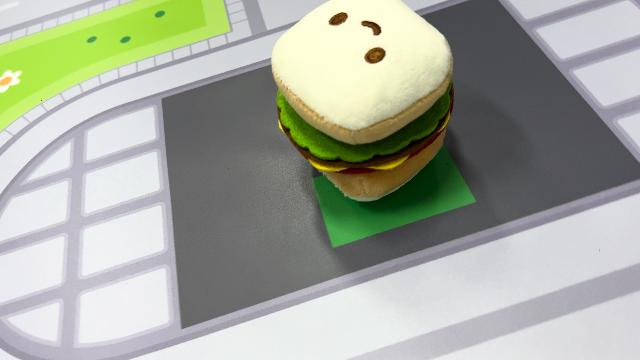sandwich: (268, 1, 458, 203)
